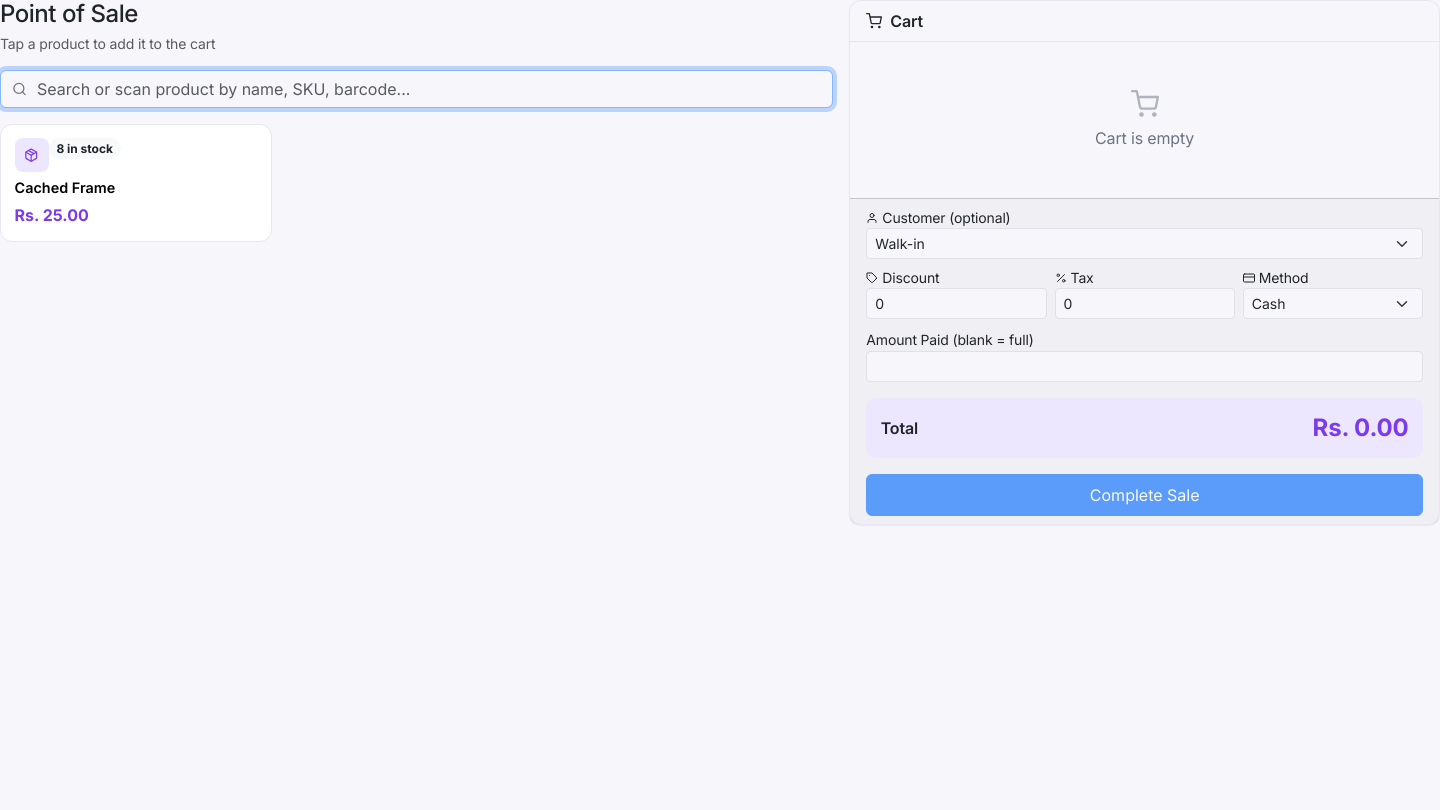
Scenario: Pos page (Phase 1.8) › adds a product to the cart and completes checkout through the existing offline outbox
Click the text "Cached Frame".
click(65, 188)  # box [15, 179, 115, 197]
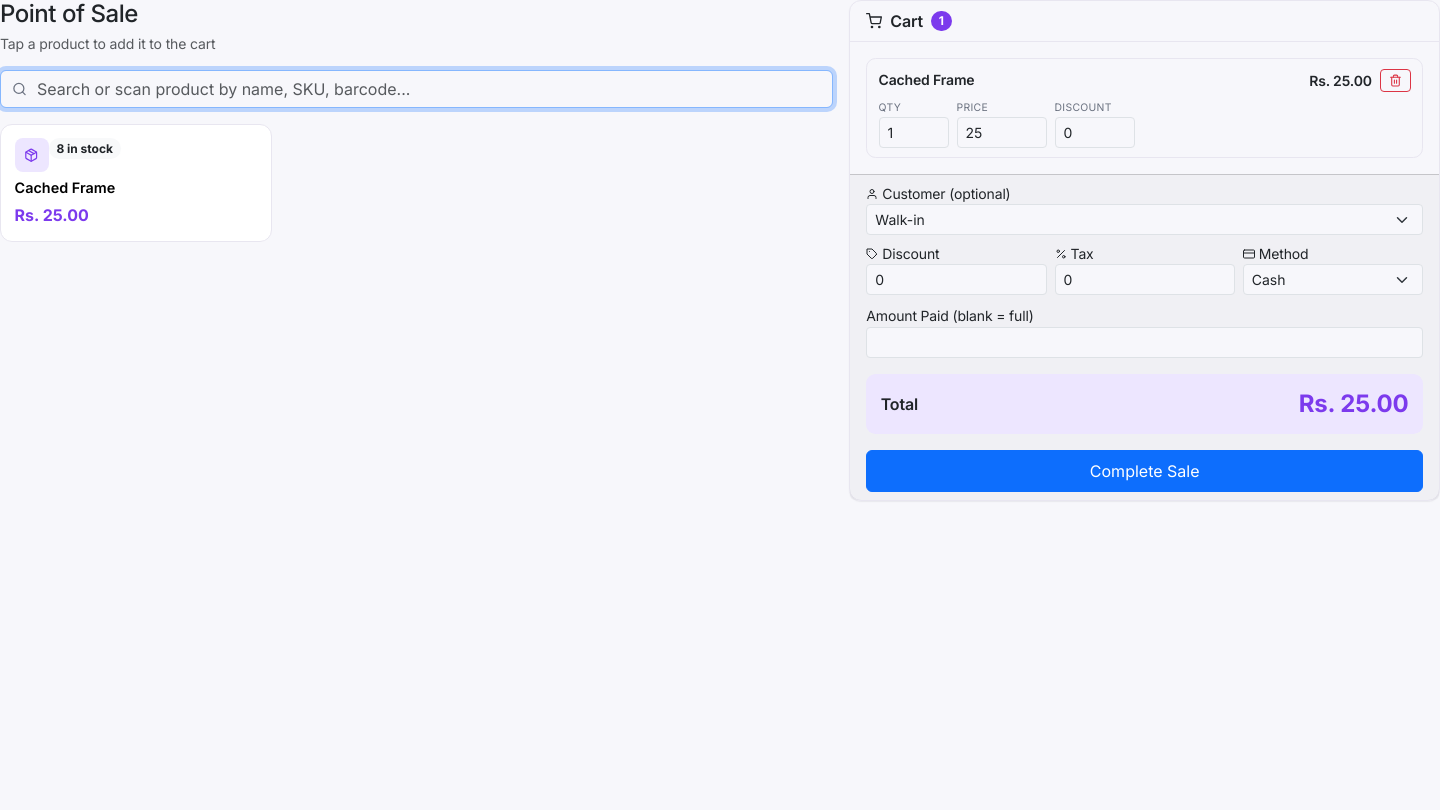
Expected: the button "Complete Sale" is enabled
Click the button "Complete Sale".
click(1145, 471)  # box [866, 450, 1423, 492]
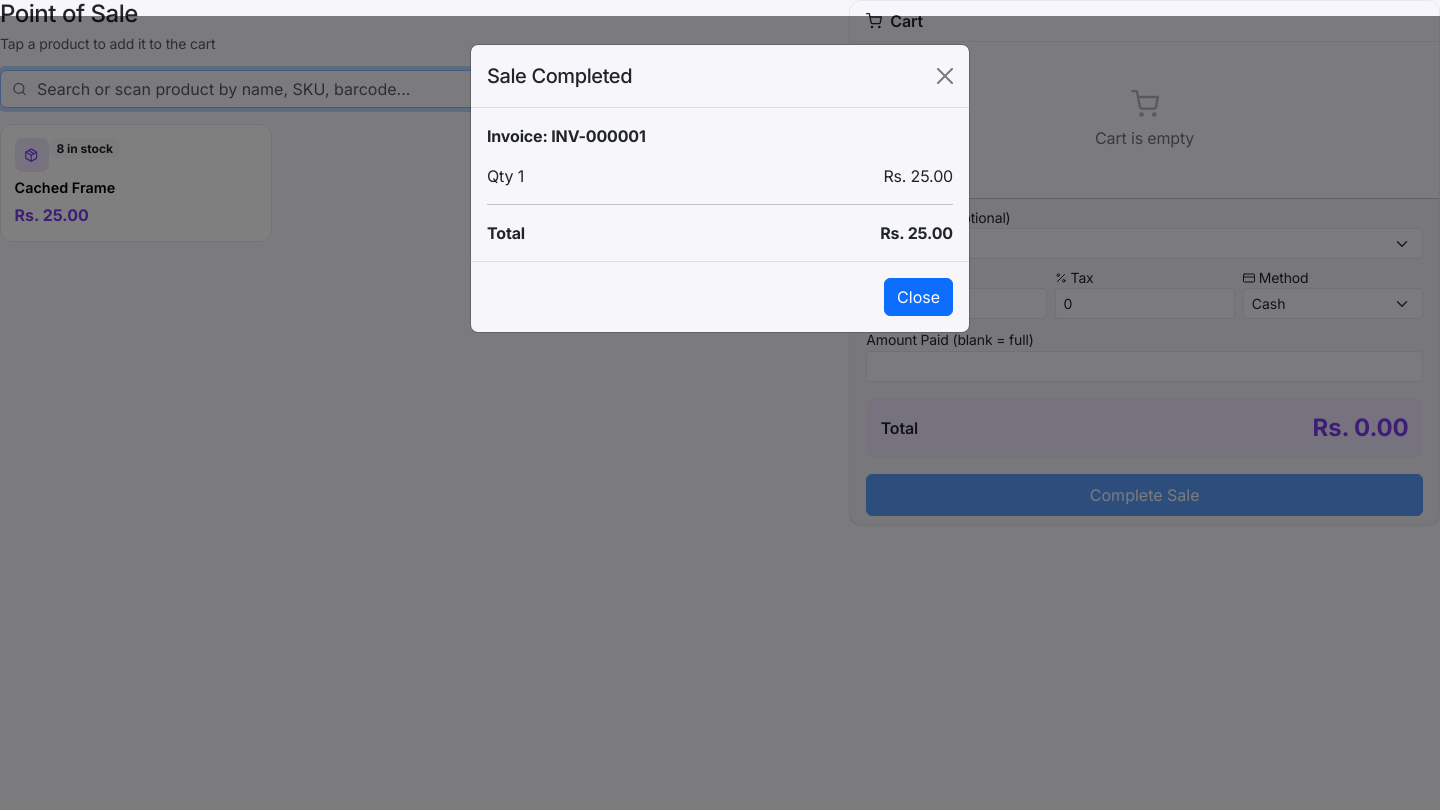
Expected: the heading "Sale Completed" is shown, [487, 61, 632, 91]
